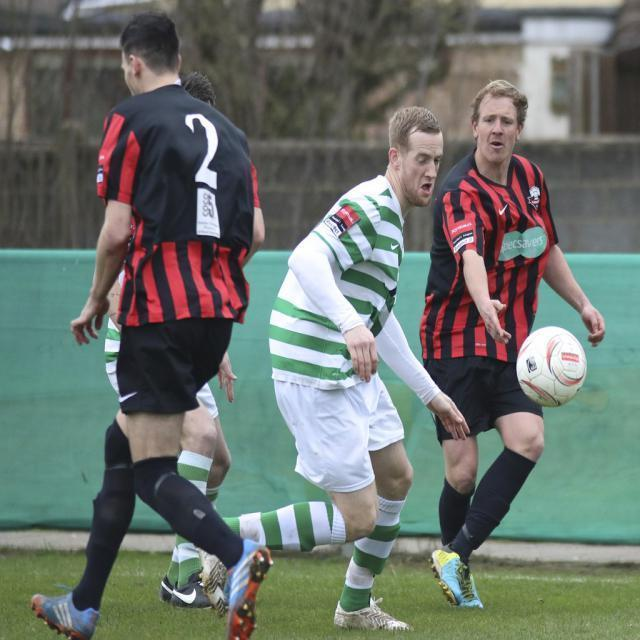ball: (515, 325, 589, 407)
